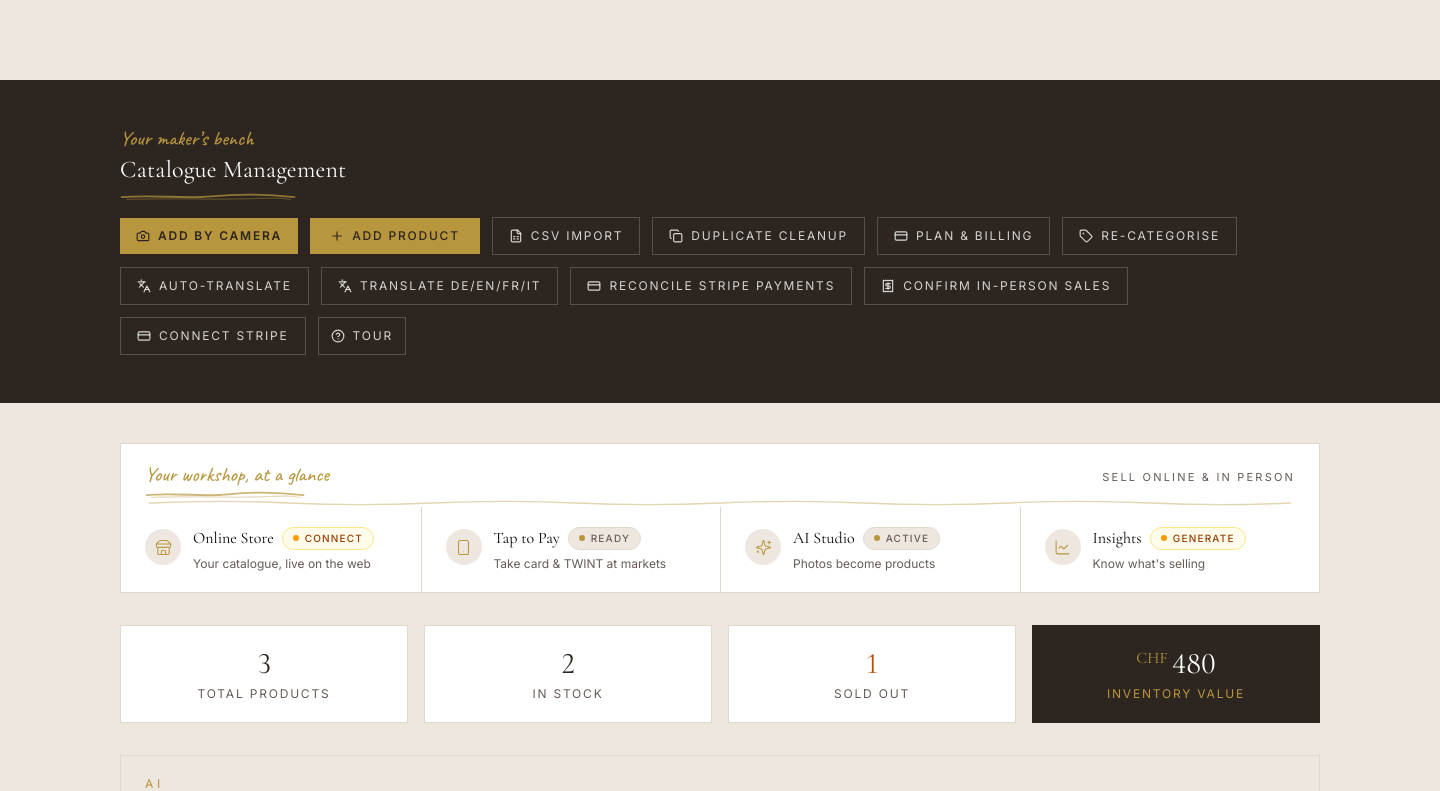
Test case: Admin page — add product › scrolls the form into view and focuses the name field when opened
Click the button "Add Product" at (395,236), box [310, 218, 480, 254]
(page scrolled)
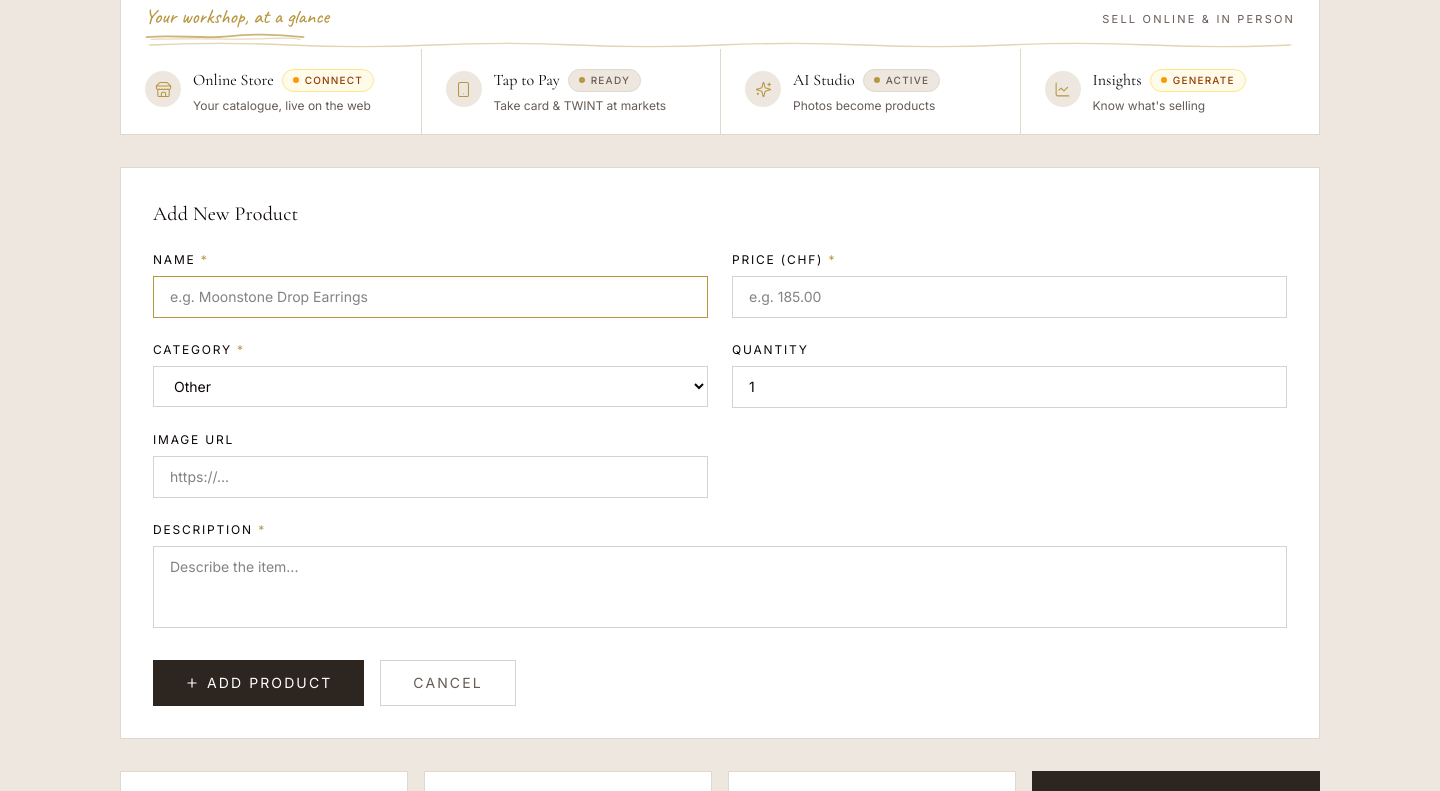
Expected: the element with id "add-product-form" is shown
